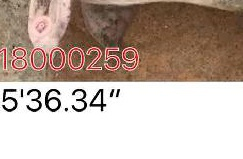text: (15, 3, 68, 49)
